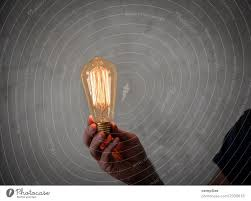bulb: (77, 50, 126, 131)
